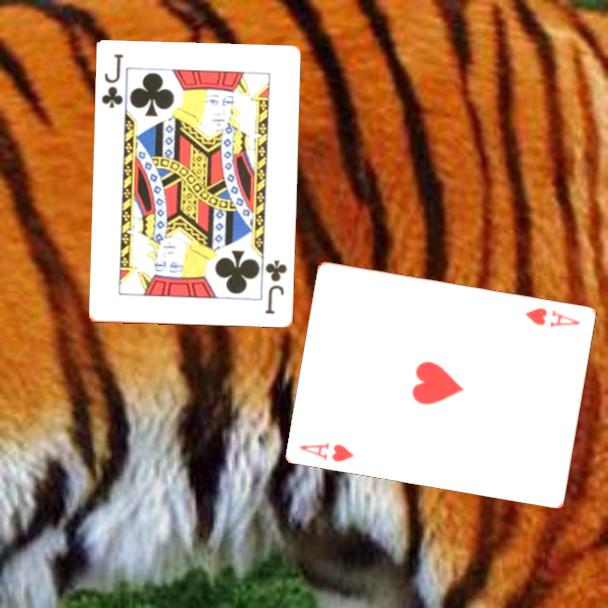c11: (262, 257, 290, 318), (98, 51, 126, 111)
h01: (521, 304, 583, 330), (296, 439, 357, 465)
